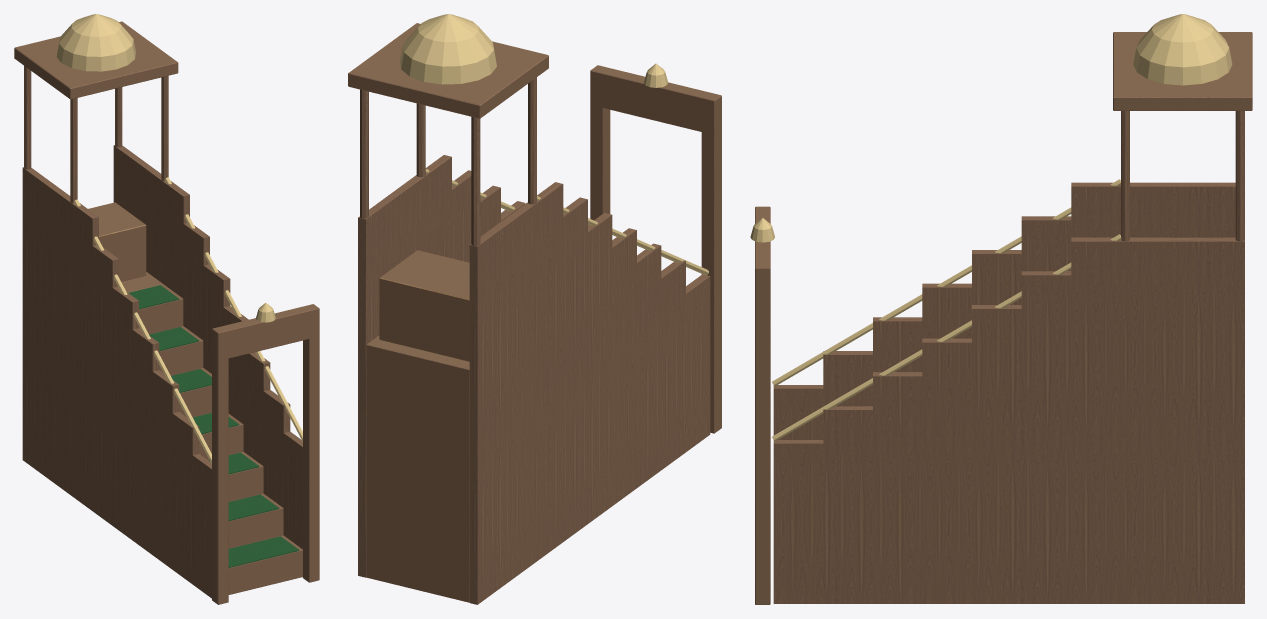
Rendered from minbar.glb.
The picture shows the model from 3 angles, left to right: view 1: azimuth 30°, elevation 25°; view 2: azimuth 150°, elevation 25°; view 3: azimuth 270°, elevation 25°; orthographic projection. The views are drawn at different scales.
Parts seen in each view (by area): view 1: minbar; view 2: minbar; view 3: minbar.
Boxes of the visible parts, x1=… form: minbar: x1=14, y1=14, x2=319, y2=604; minbar: x1=348, y1=14, x2=721, y2=604; minbar: x1=750, y1=14, x2=1252, y2=604.
Bounding box in the file's own units: 1 × 3.99 × 3.24.
Materials: 4 (3 with a texture image).
